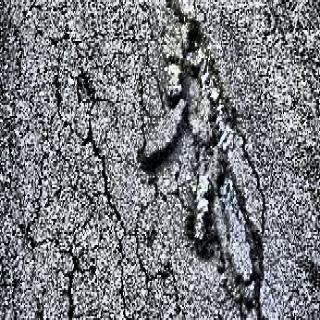alligator-crack: (6, 2, 264, 320)
